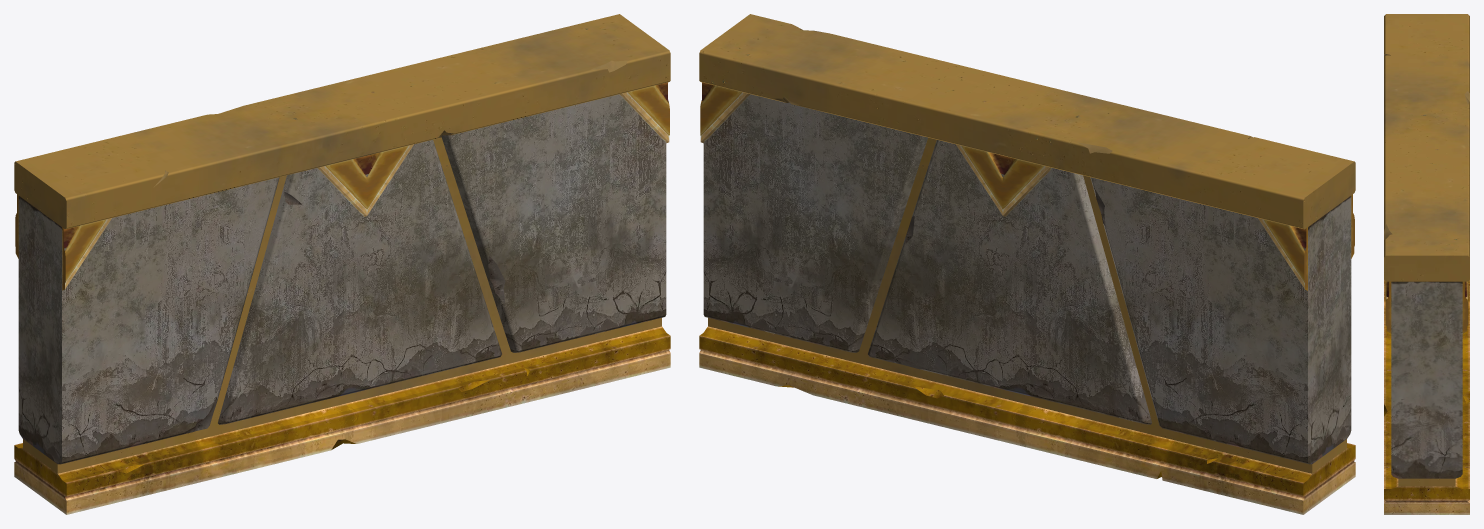
3 views of the same model, side by side, from view 1: azimuth 30°, elevation 25°; view 2: azimuth 150°, elevation 25°; view 3: azimuth 270°, elevation 25° (orthographic). The views are drawn at different scales.
Parts seen in each view (by area): view 1: SM_Vault_4x2m_Wall_01_V1_LOD0; view 2: SM_Vault_4x2m_Wall_01_V1_LOD0; view 3: SM_Vault_4x2m_Wall_01_V1_LOD0.
Boxes of the visible parts, x1,y1,x2,y2 form: SM_Vault_4x2m_Wall_01_V1_LOD0: (14, 14, 670, 514); SM_Vault_4x2m_Wall_01_V1_LOD0: (699, 14, 1355, 514); SM_Vault_4x2m_Wall_01_V1_LOD0: (1384, 14, 1469, 514).
Size of the model in its own units: 4 by 2 by 0.5999.
Materials: 4 (4 with a texture image).
